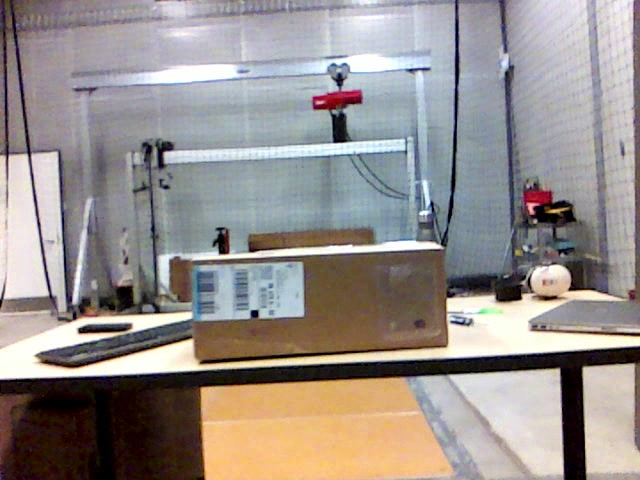box: (191, 242, 448, 358)
